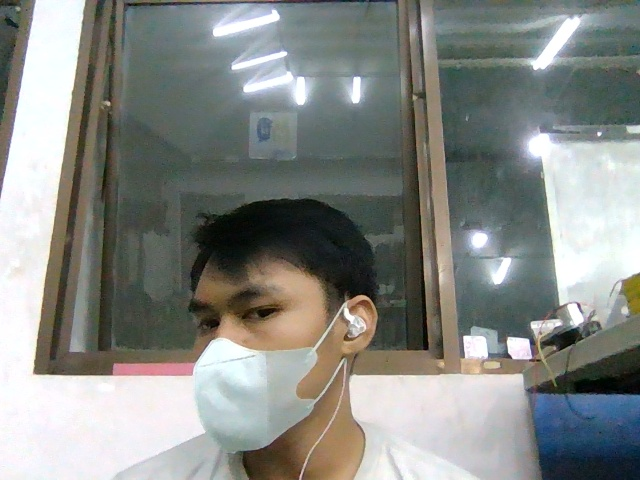mask_on: (193, 338, 321, 451)
